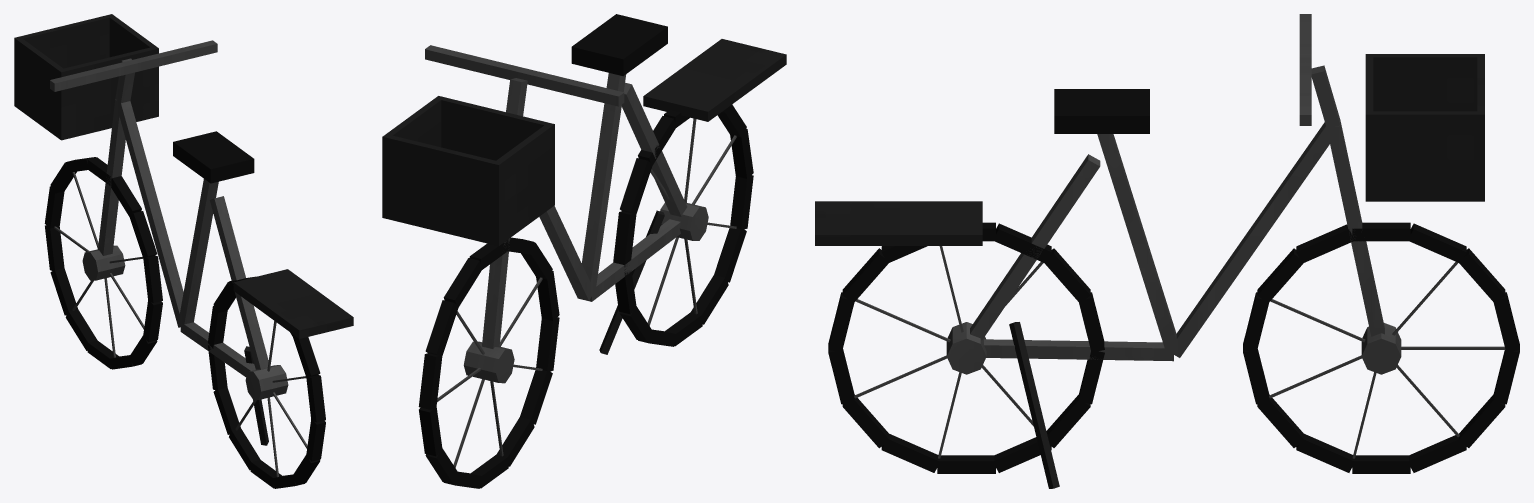
Rendered from bicycle.glb.
3 renders of one model, left to right at view 1: azimuth 30°, elevation 25°; view 2: azimuth 150°, elevation 25°; view 3: azimuth 270°, elevation 25°, orthographic. The views are drawn at different scales.
Visible parts, largest first — view 1: bicycle; view 2: bicycle; view 3: bicycle.
Boxes of the visible parts, left/top/right/bottom form: bicycle: left=14, top=14, right=353, bottom=488; bicycle: left=382, top=14, right=786, bottom=488; bicycle: left=815, top=14, right=1519, bottom=488.
Bounding box in the file's own units: 0.6 × 1.12 × 1.77.
Materials: 3 (3 with a texture image).
